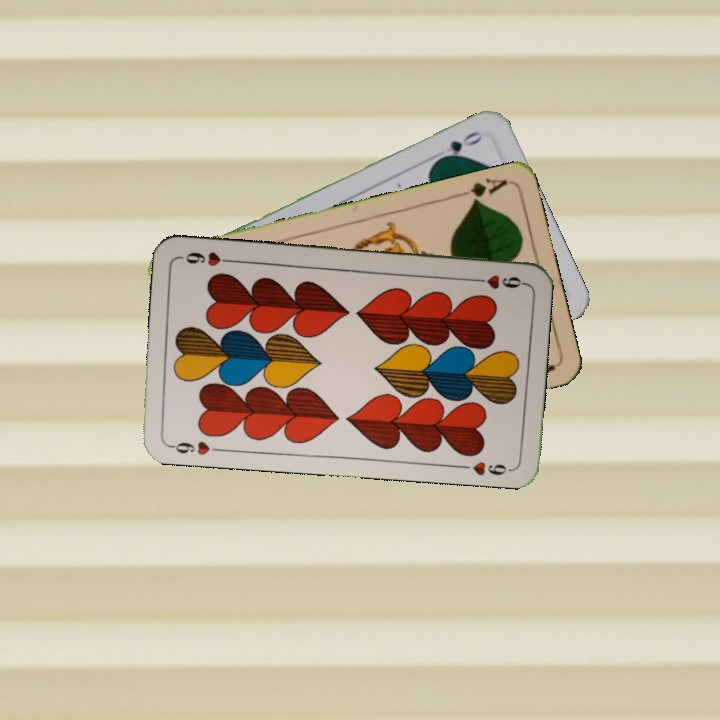GA: (452, 174, 510, 207)
GO: (433, 127, 486, 164)
H9: (467, 271, 526, 292), (165, 437, 224, 458)
